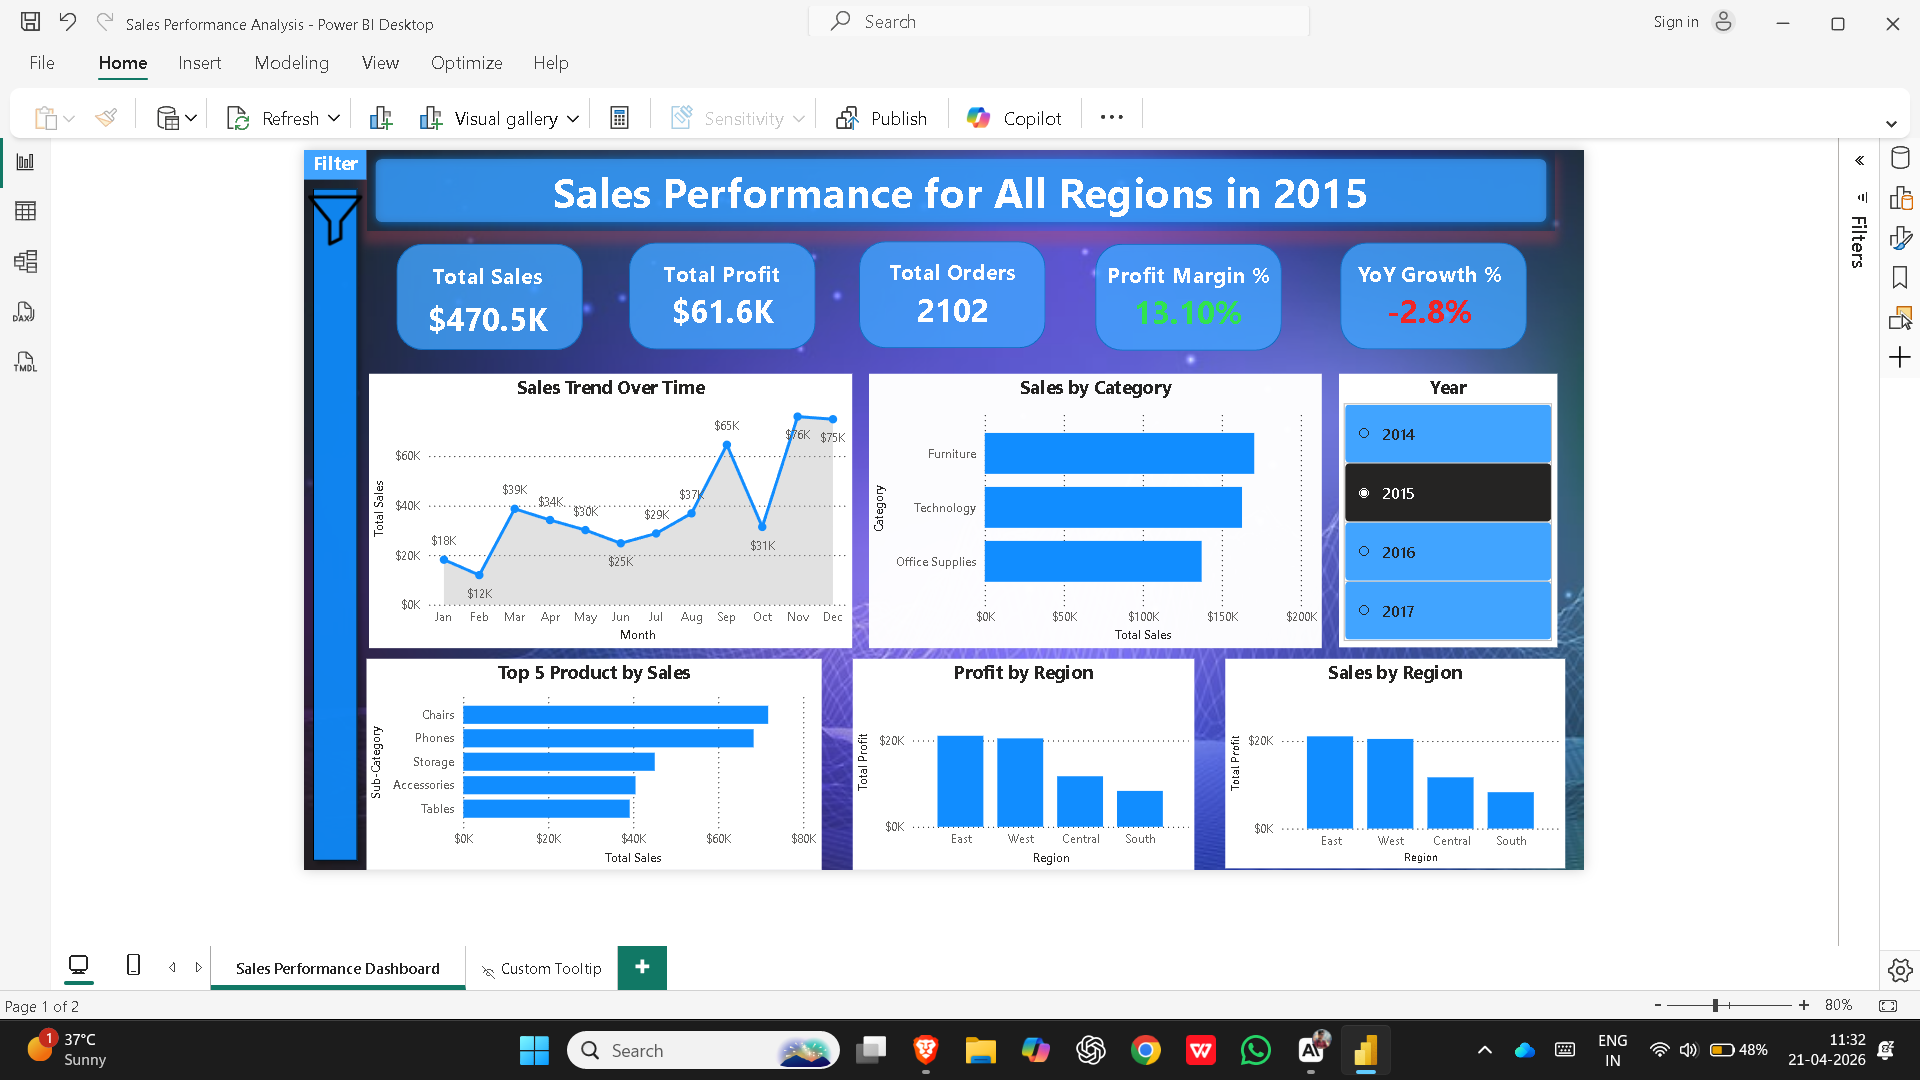

What the dashboard file says about the page in this screenshot:
{"tool":"powerbi","page":{"name":"Sales Performance Dashboard","canvas":[1280,720],"ordinal":0},"visuals":[{"type":"shape","title":"Filter","box":[0,0,62.5,720],"z":0,"group":"g1"},{"type":"shape","box":[62.6,0,1189,81],"z":1000},{"type":"actionButton","title":"Open Button","box":[0,31.2,62.5,78.8],"z":1000,"group":"g1"},{"type":"lineChart","title":"Sales Trend Over Time","fields":{"Category":["DateTable.Month"],"Y":["Key Measures.Total Sales"]},"box":[64.9,223.6,483.3,274.1],"z":3000},{"type":"barChart","title":"Sales by Category","fields":{"Category":["Sales_Data.Category"],"Y":["Key Measures.Total Sales"]},"box":[565.6,223.6,453,274.1],"z":4000},{"type":"clusteredColumnChart","title":"Sales by Region","fields":{"Category":["Sales_Data.Region"],"Y":["Key Measures.Total Profit"]},"box":[921.5,509.2,339.9,209.8],"z":5000},{"type":"columnChart","title":" Profit by Region","fields":{"Category":["Sales_Data.Region"],"Y":["Key Measures.Total Profit"]},"box":[548.9,508.8,341.2,211.2],"z":6000},{"type":"clusteredBarChart","title":"Top 5 Product by Sales","fields":{"Category":["Sales_Data.Sub-Category"],"Y":["Key Measures.Total Sales"]},"box":[62.5,508.8,455,211.2],"z":7000},{"type":"group","id":"g1","title":"Filter_Panel","box":[0,0,62.5,720],"z":9000},{"type":"advancedSlicerVisual","fields":{"Values":["DateTable.Year"]},"box":[1035.6,223.3,218.4,273.6],"z":10000},{"type":"shape","box":[92.5,93.8,186.2,106.2],"z":11000},{"type":"card","title":"Total Sales","fields":{"Values":["Key Measures.Total Sales"]},"box":[114.3,110,140,88.6],"z":12000},{"type":"shape","box":[324.9,92.9,186.6,107],"z":13000},{"type":"card","title":"Total Profit","fields":{"Values":["Key Measures.Total Profit"]},"box":[329.5,107.4,177.5,77.9],"z":14000},{"type":"shape","box":[555.6,91.5,186.6,107],"z":15000},{"type":"card","title":"Total Orders","fields":{"Values":["Key Measures.Total Orders"]},"box":[560.1,106.1,177.5,77.9],"z":16000},{"type":"shape","box":[791.7,94,186.6,107],"z":17000},{"type":"card","title":"Profit Margin %","fields":{"Values":["Key Measures.Profit Margin %"]},"box":[796.6,108.9,176.6,77.1],"z":18000},{"type":"shape","box":[1036,92.8,186.6,107],"z":19000},{"type":"card","title":"YoY Growth %","fields":{"Values":["Key Measures.YoY Growth %"]},"box":[1041.4,107.1,170,77.1],"z":20000}]}

Visuals, with their boxes on the page's 1280x720 design canvas (x1, y1, x2, y2). These are canvas units, not pixel positions in the 1920x1080 screenshot, which may show the page scaled, cropped or inside an application window:
"Filter" shape: region(0, 0, 62, 720)
shape: region(63, 0, 1252, 81)
"Open Button" actionButton: region(0, 31, 62, 110)
"Sales Trend Over Time" lineChart: region(65, 224, 548, 498)
"Sales by Category" barChart: region(566, 224, 1019, 498)
"Sales by Region" clusteredColumnChart: region(922, 509, 1261, 719)
" Profit by Region" columnChart: region(549, 509, 890, 720)
"Top 5 Product by Sales" clusteredBarChart: region(62, 509, 518, 720)
"Filter_Panel" group: region(0, 0, 62, 720)
advancedSlicerVisual - DateTable.Year: region(1036, 223, 1254, 497)
shape: region(92, 94, 279, 200)
"Total Sales" card: region(114, 110, 254, 199)
shape: region(325, 93, 512, 200)
"Total Profit" card: region(330, 107, 507, 185)
shape: region(556, 92, 742, 198)
"Total Orders" card: region(560, 106, 738, 184)
shape: region(792, 94, 978, 201)
"Profit Margin %" card: region(797, 109, 973, 186)
shape: region(1036, 93, 1223, 200)
"YoY Growth %" card: region(1041, 107, 1211, 184)
